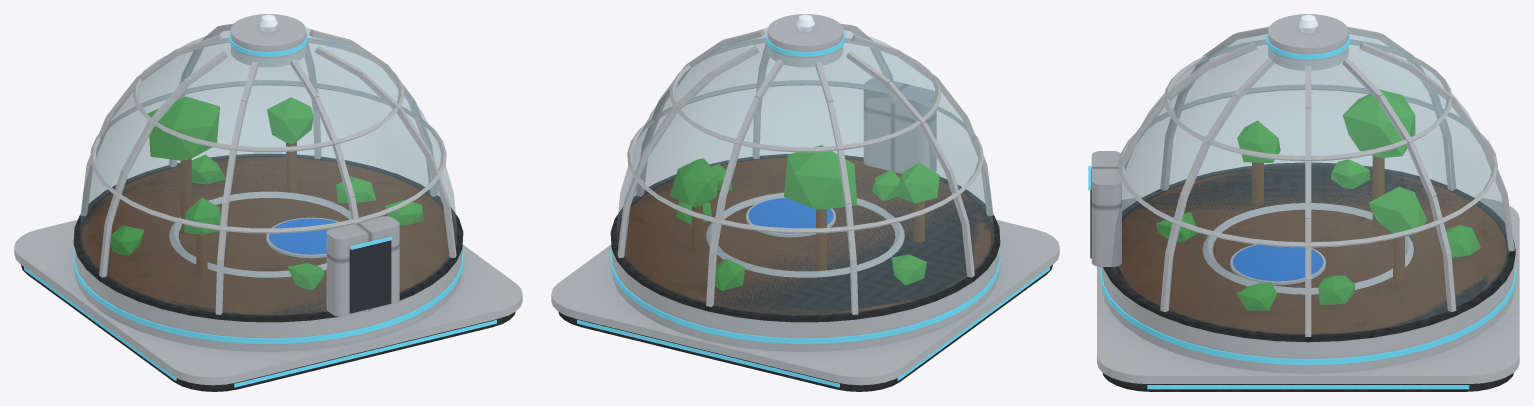
File: enterprise_biodome.glb
The picture shows the model from 3 angles, left to right: view 1: azimuth 30°, elevation 25°; view 2: azimuth 150°, elevation 25°; view 3: azimuth 270°, elevation 25°; orthographic projection. The views are drawn at different scales.
Visible parts, largest first — view 1: te_enterprise_biodome; view 2: te_enterprise_biodome; view 3: te_enterprise_biodome.
Part boxes in pixels (x1,y1,x2,y2): te_enterprise_biodome: [14, 14, 522, 391]; te_enterprise_biodome: [551, 14, 1059, 391]; te_enterprise_biodome: [1088, 14, 1519, 391].
Size of the model in its own units: 0.84 by 0.635 by 0.857.
2 materials, 1 textured.
